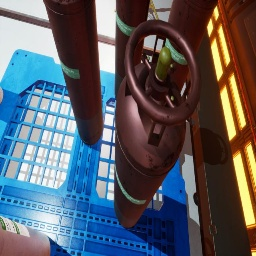0: (0, 216, 50, 256), (0, 86, 3, 105)
NitrogenTank ,: (114, 19, 202, 228), (43, 0, 104, 146), (162, 0, 218, 93), (114, 0, 150, 101)
